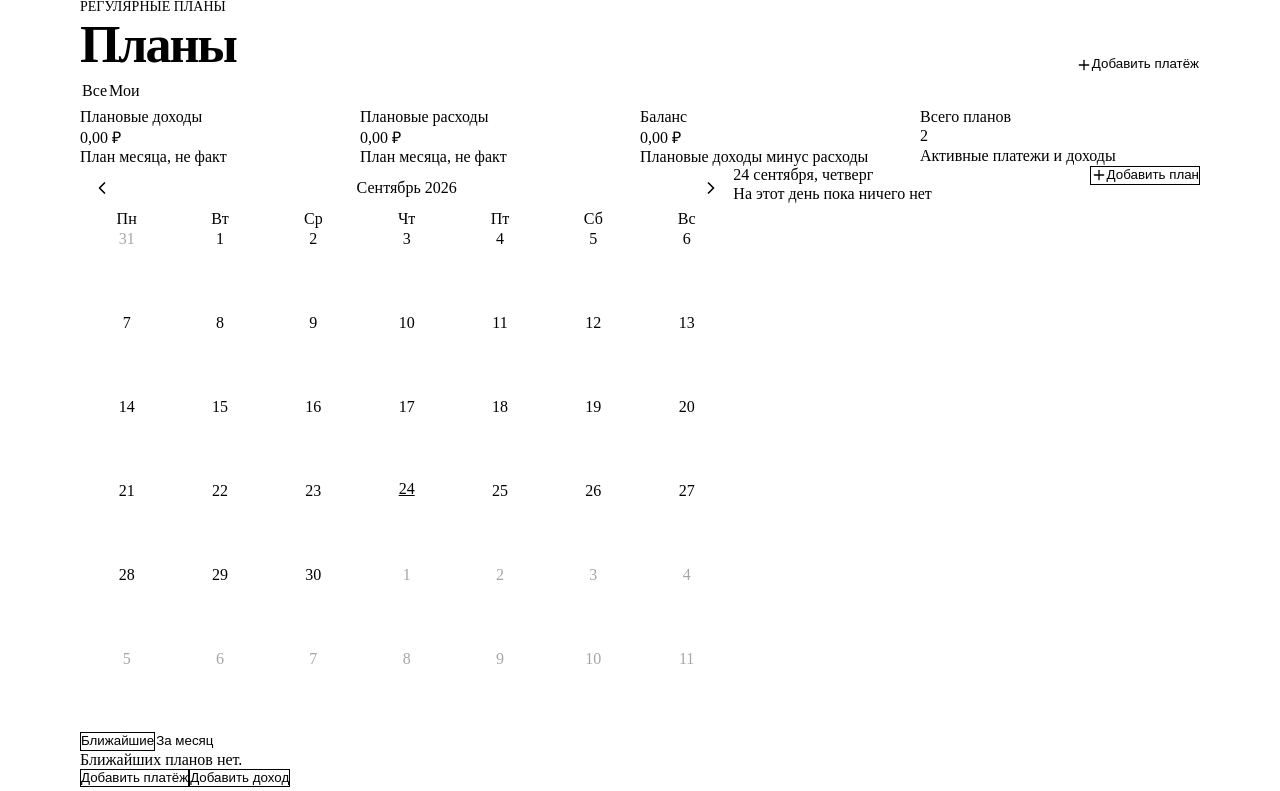
Test: plans page › expected income › disables recording for a completed occurrence
The width and height of the screenshot is (1280, 791).
Click the tab with test id "list-mode-all" at [185, 741], box [155,732,214,751]
(page scrolled)
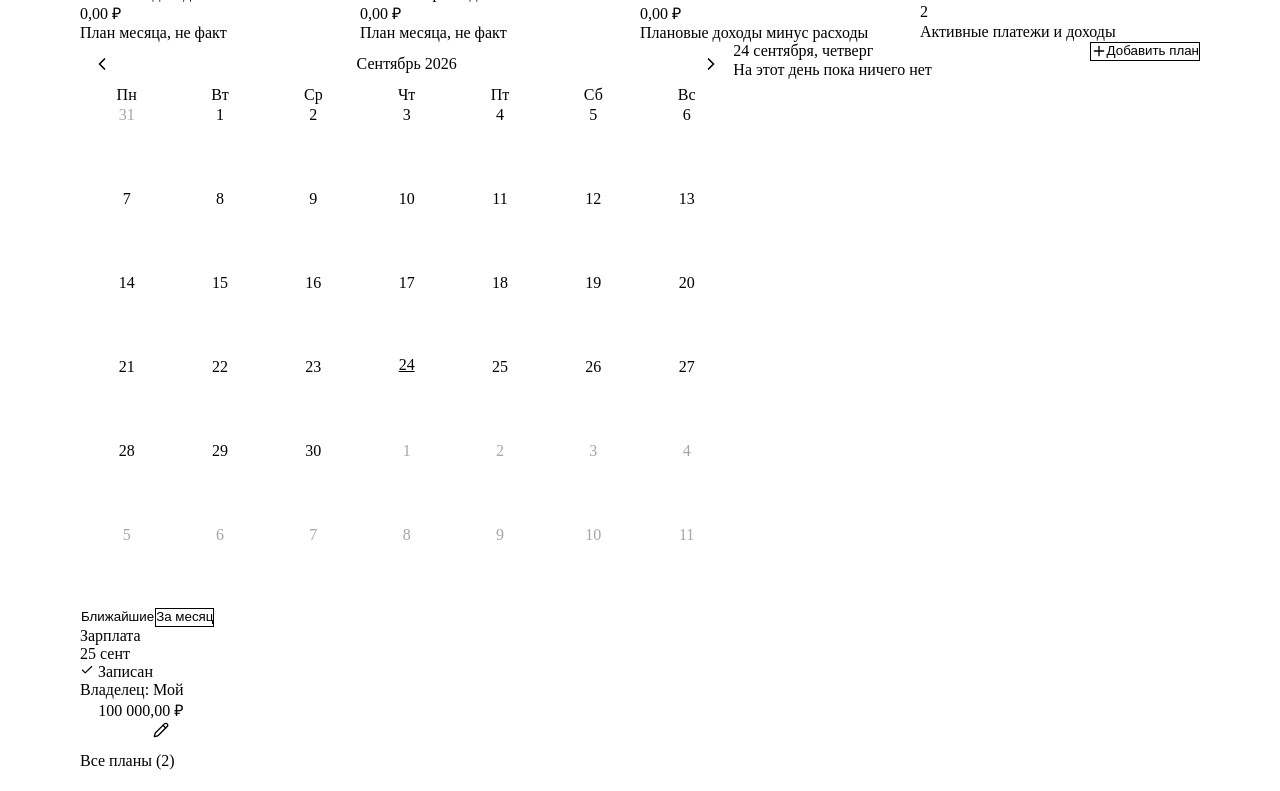
Check: the list item with test id "income-row-inc-occ" shows "Записан", box [94,663,153,680]
